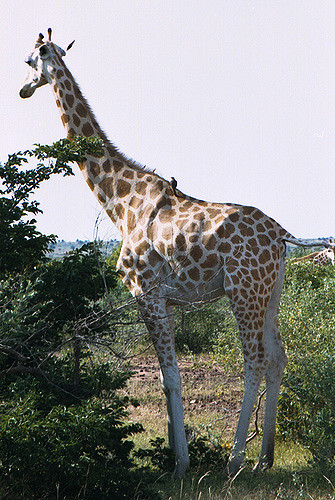giraffe: (21, 20, 297, 432)
